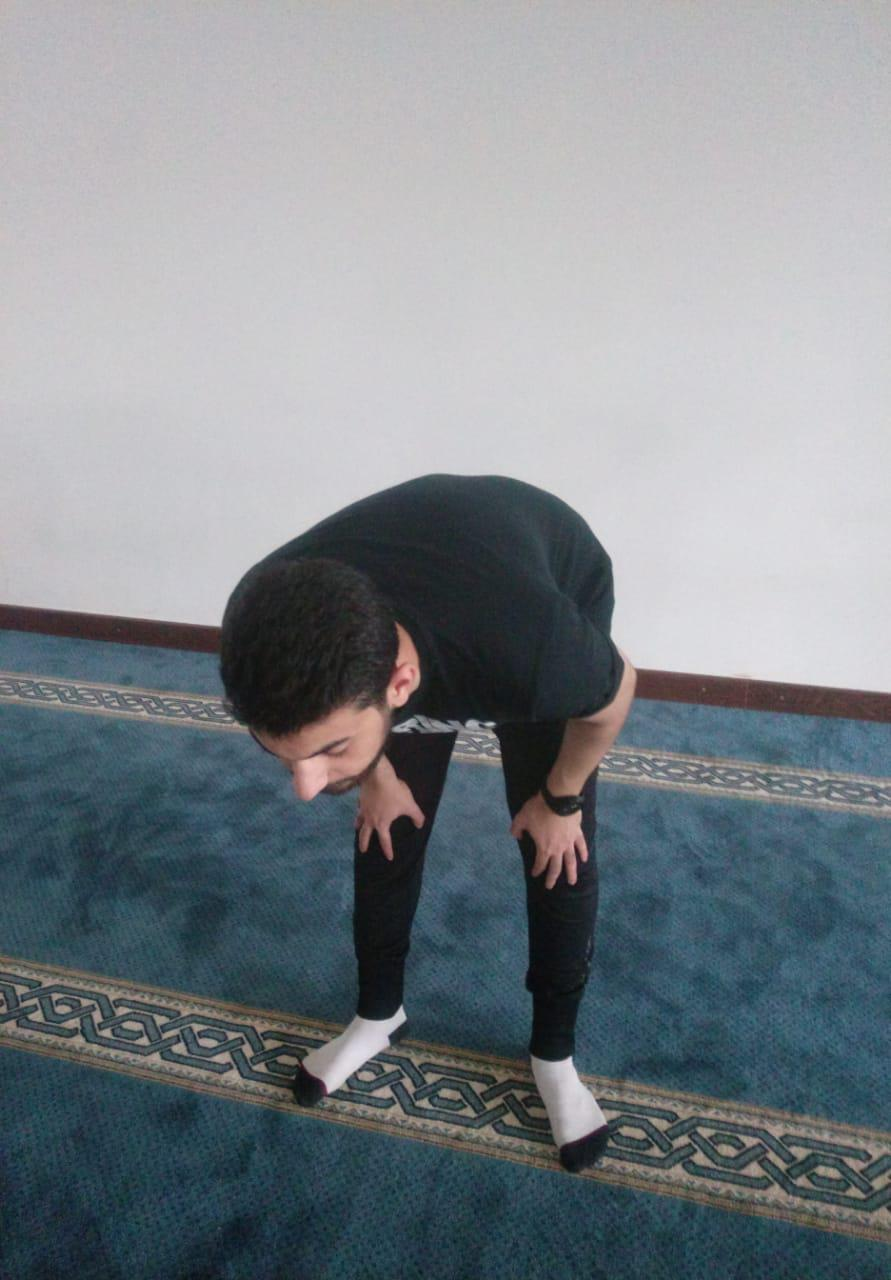ruku: (147, 445, 761, 1212)
